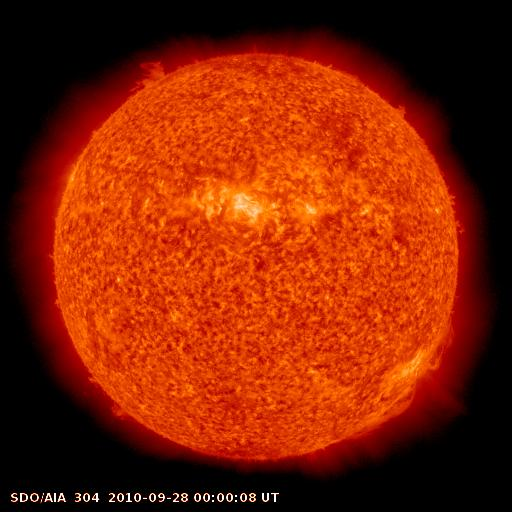prominence: (335, 383, 419, 439), (71, 367, 136, 427), (119, 52, 183, 99), (426, 304, 465, 378), (443, 180, 477, 241), (382, 89, 419, 127)
